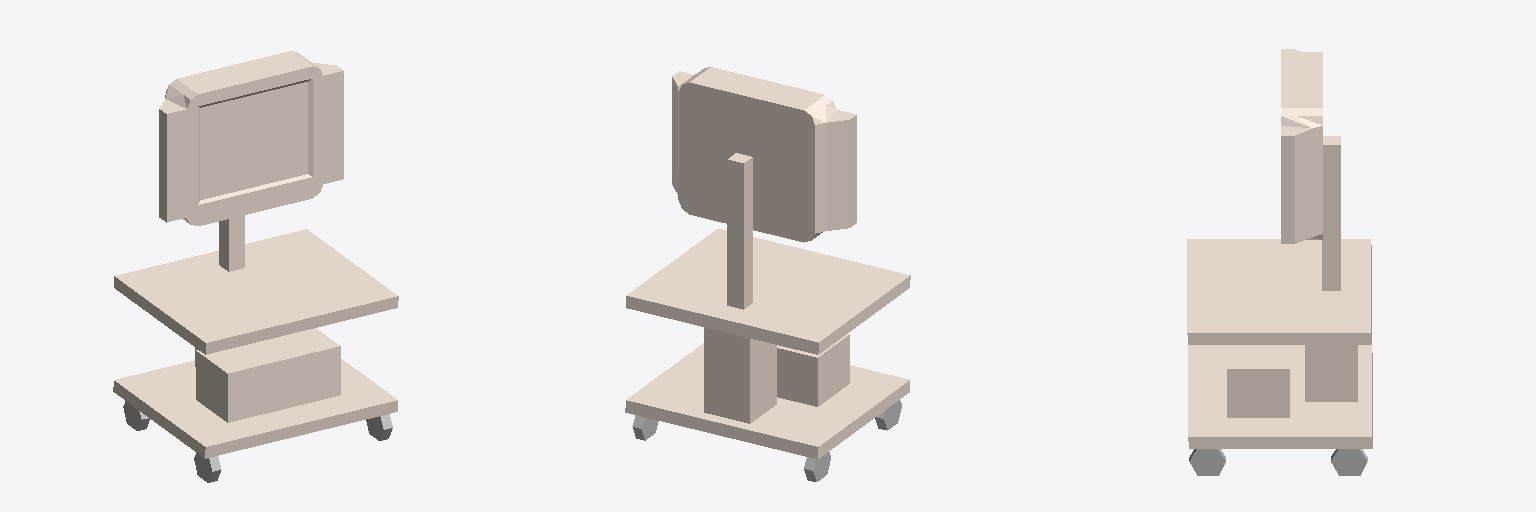
The picture shows the model from 3 angles: view 1: azimuth 30°, elevation 25°; view 2: azimuth 150°, elevation 25°; view 3: azimuth 270°, elevation 25°; orthographic projection.
Parts seen in each view (by area): view 1: Cube.004_Cube.007, Cube, Cylinder.001; view 2: Cube.004_Cube.007, Cube, Cylinder.001; view 3: Cube.004_Cube.007, Cube, Cylinder.001.
Part boxes in pixels (left/top/right/bottom): Cube.004_Cube.007: left=113, top=215, right=398, bottom=458; Cube: left=159, top=51, right=343, bottom=225; Cylinder.001: left=123, top=401, right=392, bottom=482; Cube.004_Cube.007: left=625, top=153, right=910, bottom=459; Cube: left=672, top=67, right=856, bottom=242; Cylinder.001: left=632, top=400, right=901, bottom=481; Cube.004_Cube.007: left=1187, top=136, right=1372, bottom=448; Cube: left=1281, top=49, right=1322, bottom=243; Cylinder.001: left=1189, top=449, right=1367, bottom=475.
Bounding box in the file's own units: 2.73 × 4.75 × 2.27.
Materials: 3 (1 with a texture image).